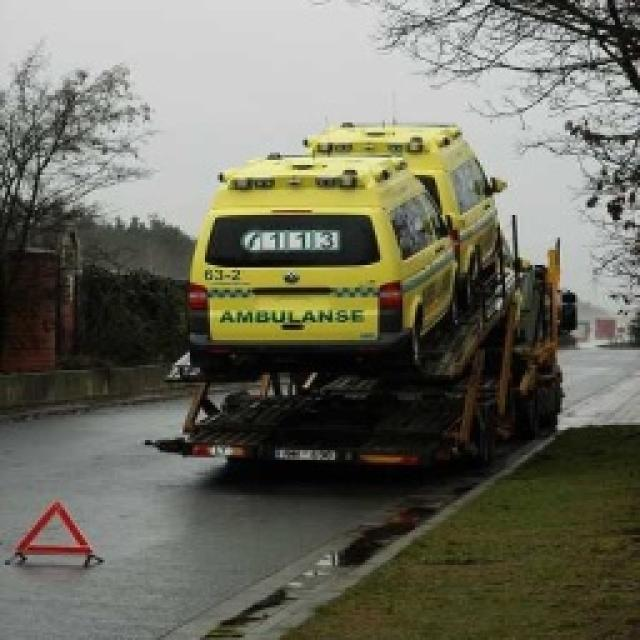emergency-vehicle: (191, 152, 463, 365), (295, 120, 505, 298)
